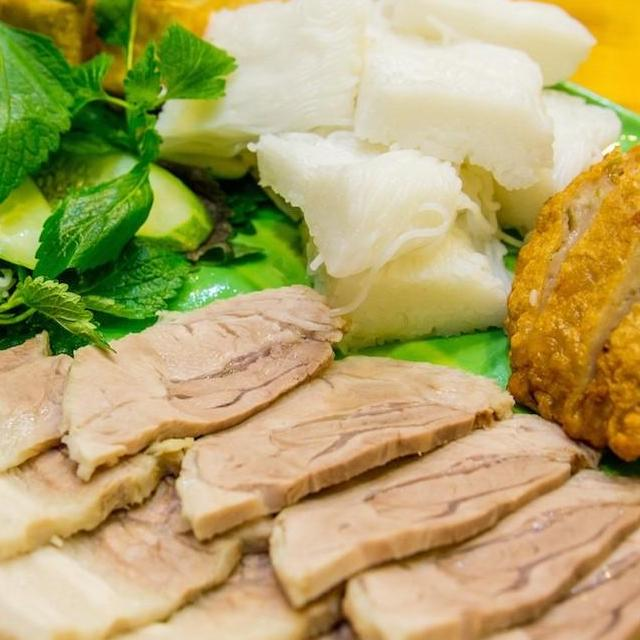bun: (117, 0, 635, 351)
bun dau: (0, 0, 640, 640)
cha com: (488, 115, 640, 494)
dau hu: (70, 0, 221, 102), (0, 0, 124, 76), (195, 0, 338, 31)
thit heo: (262, 398, 609, 618), (173, 348, 517, 546), (53, 274, 358, 488), (337, 455, 640, 640), (0, 460, 300, 640), (5, 537, 360, 640), (412, 488, 640, 640), (0, 424, 199, 583), (0, 326, 102, 505), (137, 609, 440, 640)
